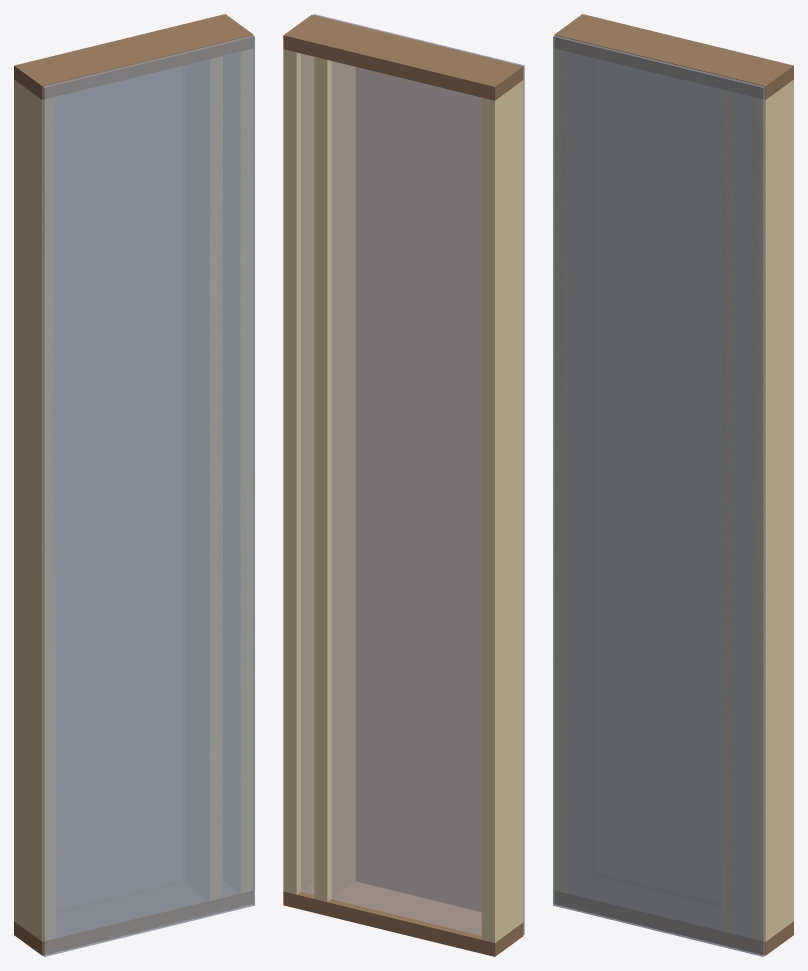
3 renders of one model, left to right at view 1: azimuth 30°, elevation 25°; view 2: azimuth 150°, elevation 25°; view 3: azimuth 330°, elevation 25°, orthographic.
Parts seen in each view (by area): view 1: EX23 FF; view 2: EX23 FF; view 3: EX23 FF.
Part boxes in pixels (bbox=[...]): EX23 FF: bbox=[14, 14, 254, 956]; EX23 FF: bbox=[283, 14, 524, 956]; EX23 FF: bbox=[553, 14, 793, 956].
Bounding box in the file's own units: 0.606 × 2.38 × 0.149.
